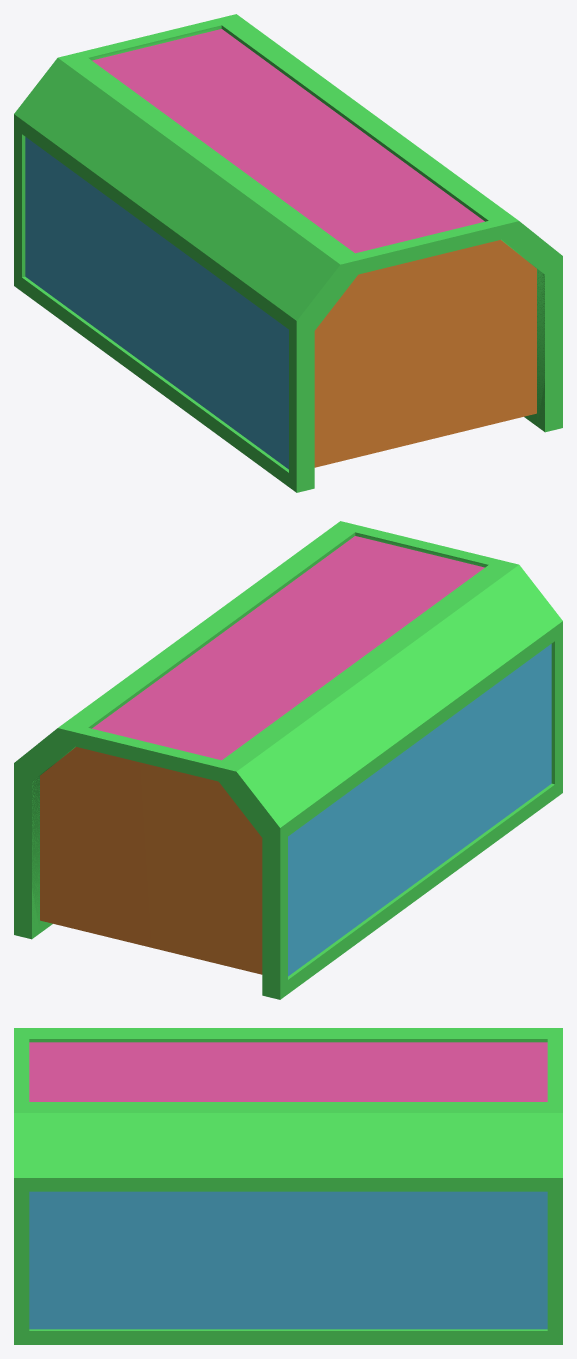
File: ConveyorBeltScanner.fbx
3 views of the same model, one above another, from view 1: azimuth 30°, elevation 25°; view 2: azimuth 150°, elevation 25°; view 3: azimuth 270°, elevation 25° (orthographic). The views are drawn at different scales.
Visible parts, largest first — view 1: ConveyorBeltScanner, ScannerHologram; view 2: ConveyorBeltScanner, ScannerHologram; view 3: ConveyorBeltScanner.
Part boxes in pixels (x1=…): ConveyorBeltScanner: x1=14, y1=14, x2=562, y2=492; ScannerHologram: x1=314, y1=240, x2=536, y2=467; ConveyorBeltScanner: x1=14, y1=521, x2=562, y2=999; ScannerHologram: x1=40, y1=747, x2=262, y2=974; ConveyorBeltScanner: x1=14, y1=1028, x2=562, y2=1344.
Size of the model in its own units: 1.95 by 1.52 by 3.59.
